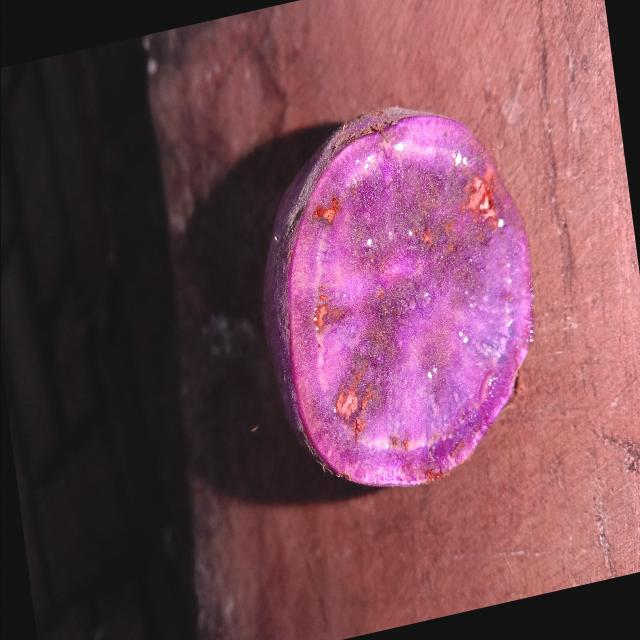Sick Sweet Potato_Tuber Rot: (262, 108, 532, 487)
